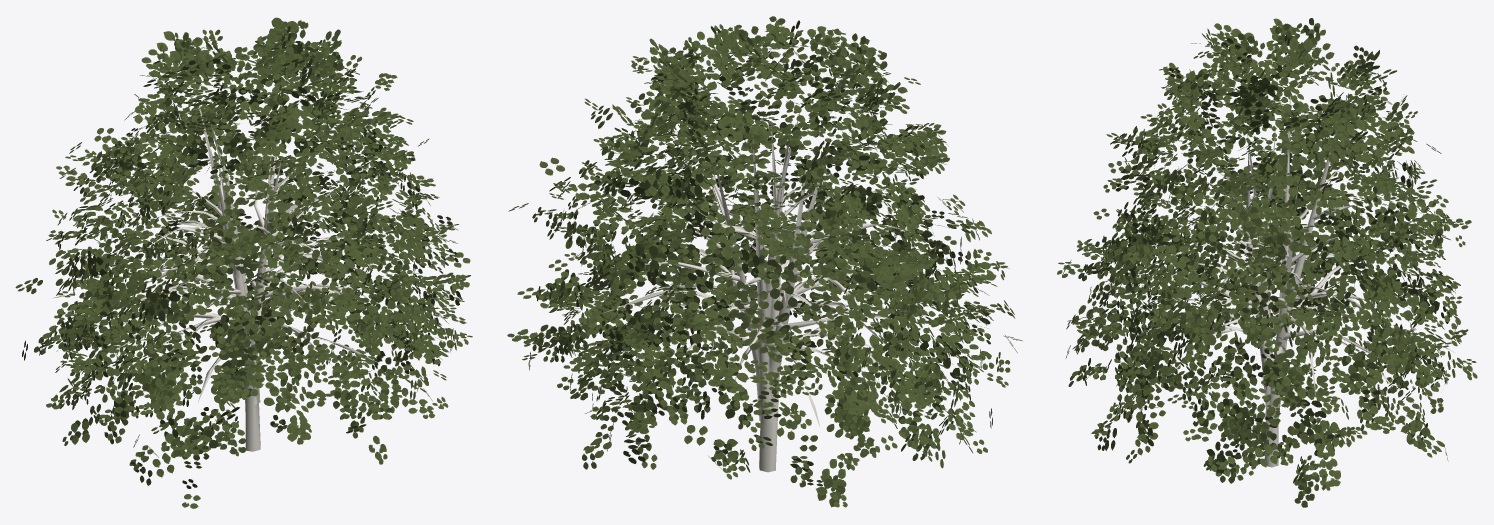
3 renders of one model, left to right at view 1: azimuth 30°, elevation 25°; view 2: azimuth 150°, elevation 25°; view 3: azimuth 270°, elevation 25°, orthographic. The views are drawn at different scales.
Parts seen in each view (by area): view 1: NT_MH_0006; view 2: NT_MH_0006; view 3: NT_MH_0006.
Boxes of the visible parts, bbox=[...] form: NT_MH_0006: bbox=[15, 17, 472, 508]; NT_MH_0006: bbox=[507, 16, 1022, 507]; NT_MH_0006: bbox=[1057, 18, 1477, 507].
Size of the model in its own units: 26.77 by 25.09 by 23.17.
Materials: 2 (1 with a texture image).
